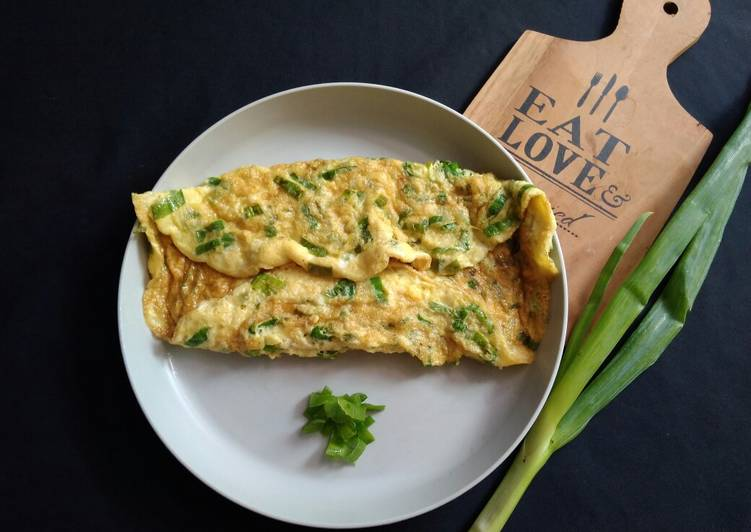Telur: (115, 140, 535, 397)
